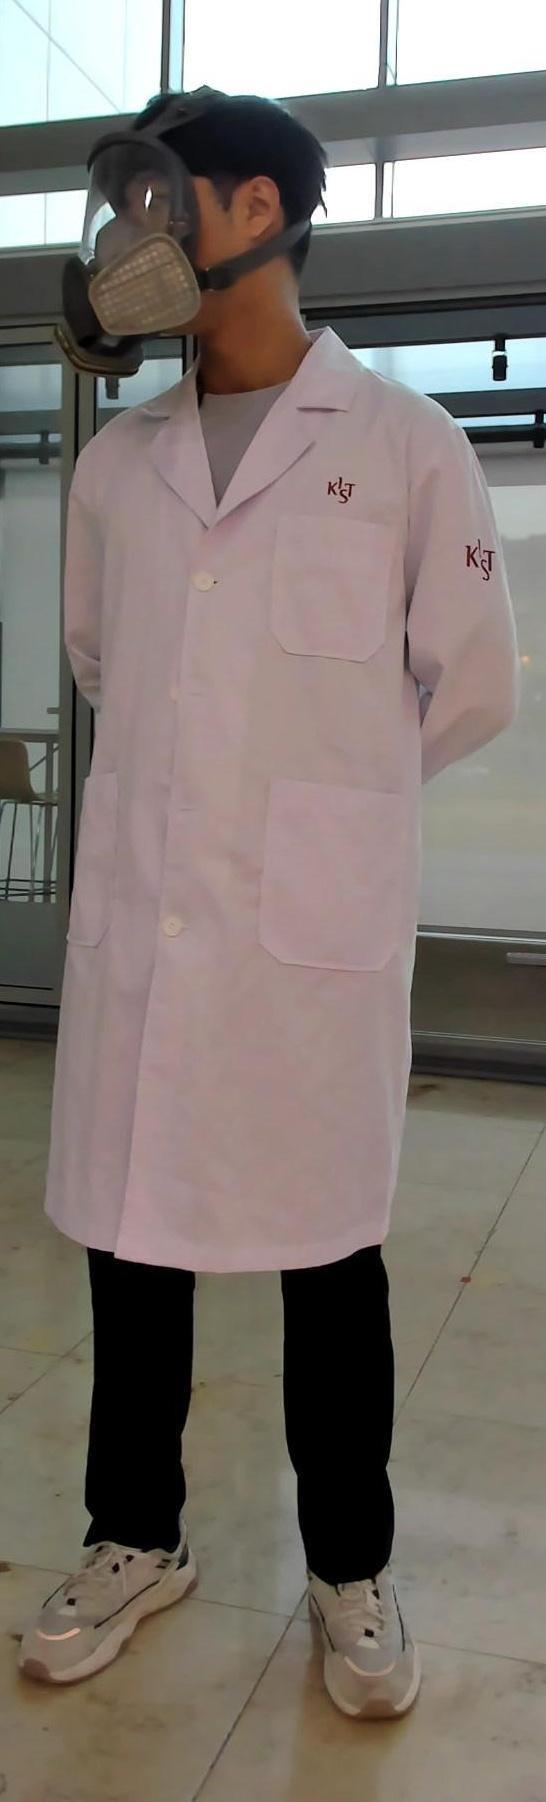lab_coat: (40, 414, 495, 1258)
